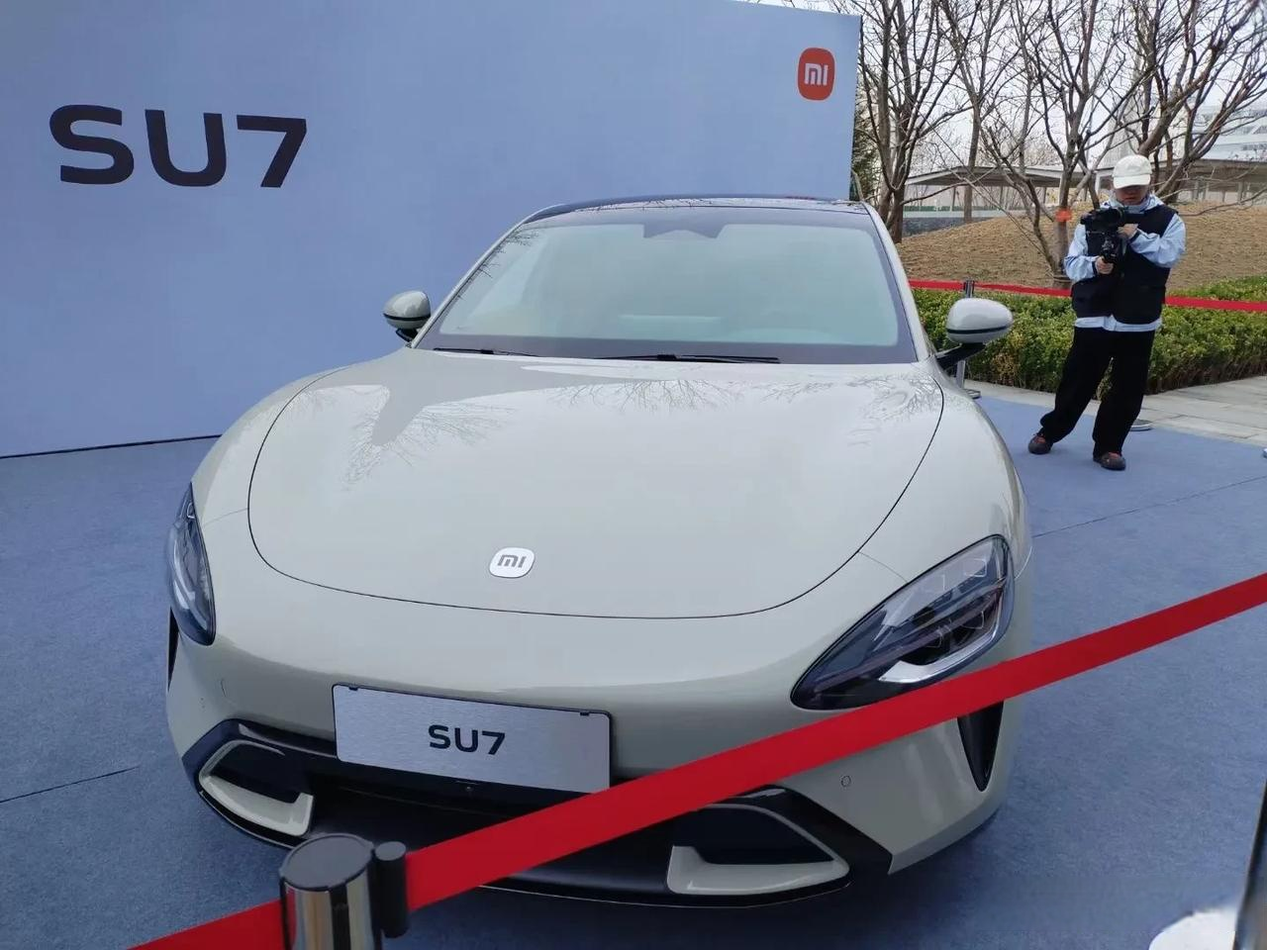su7: (145, 192, 1016, 898)
